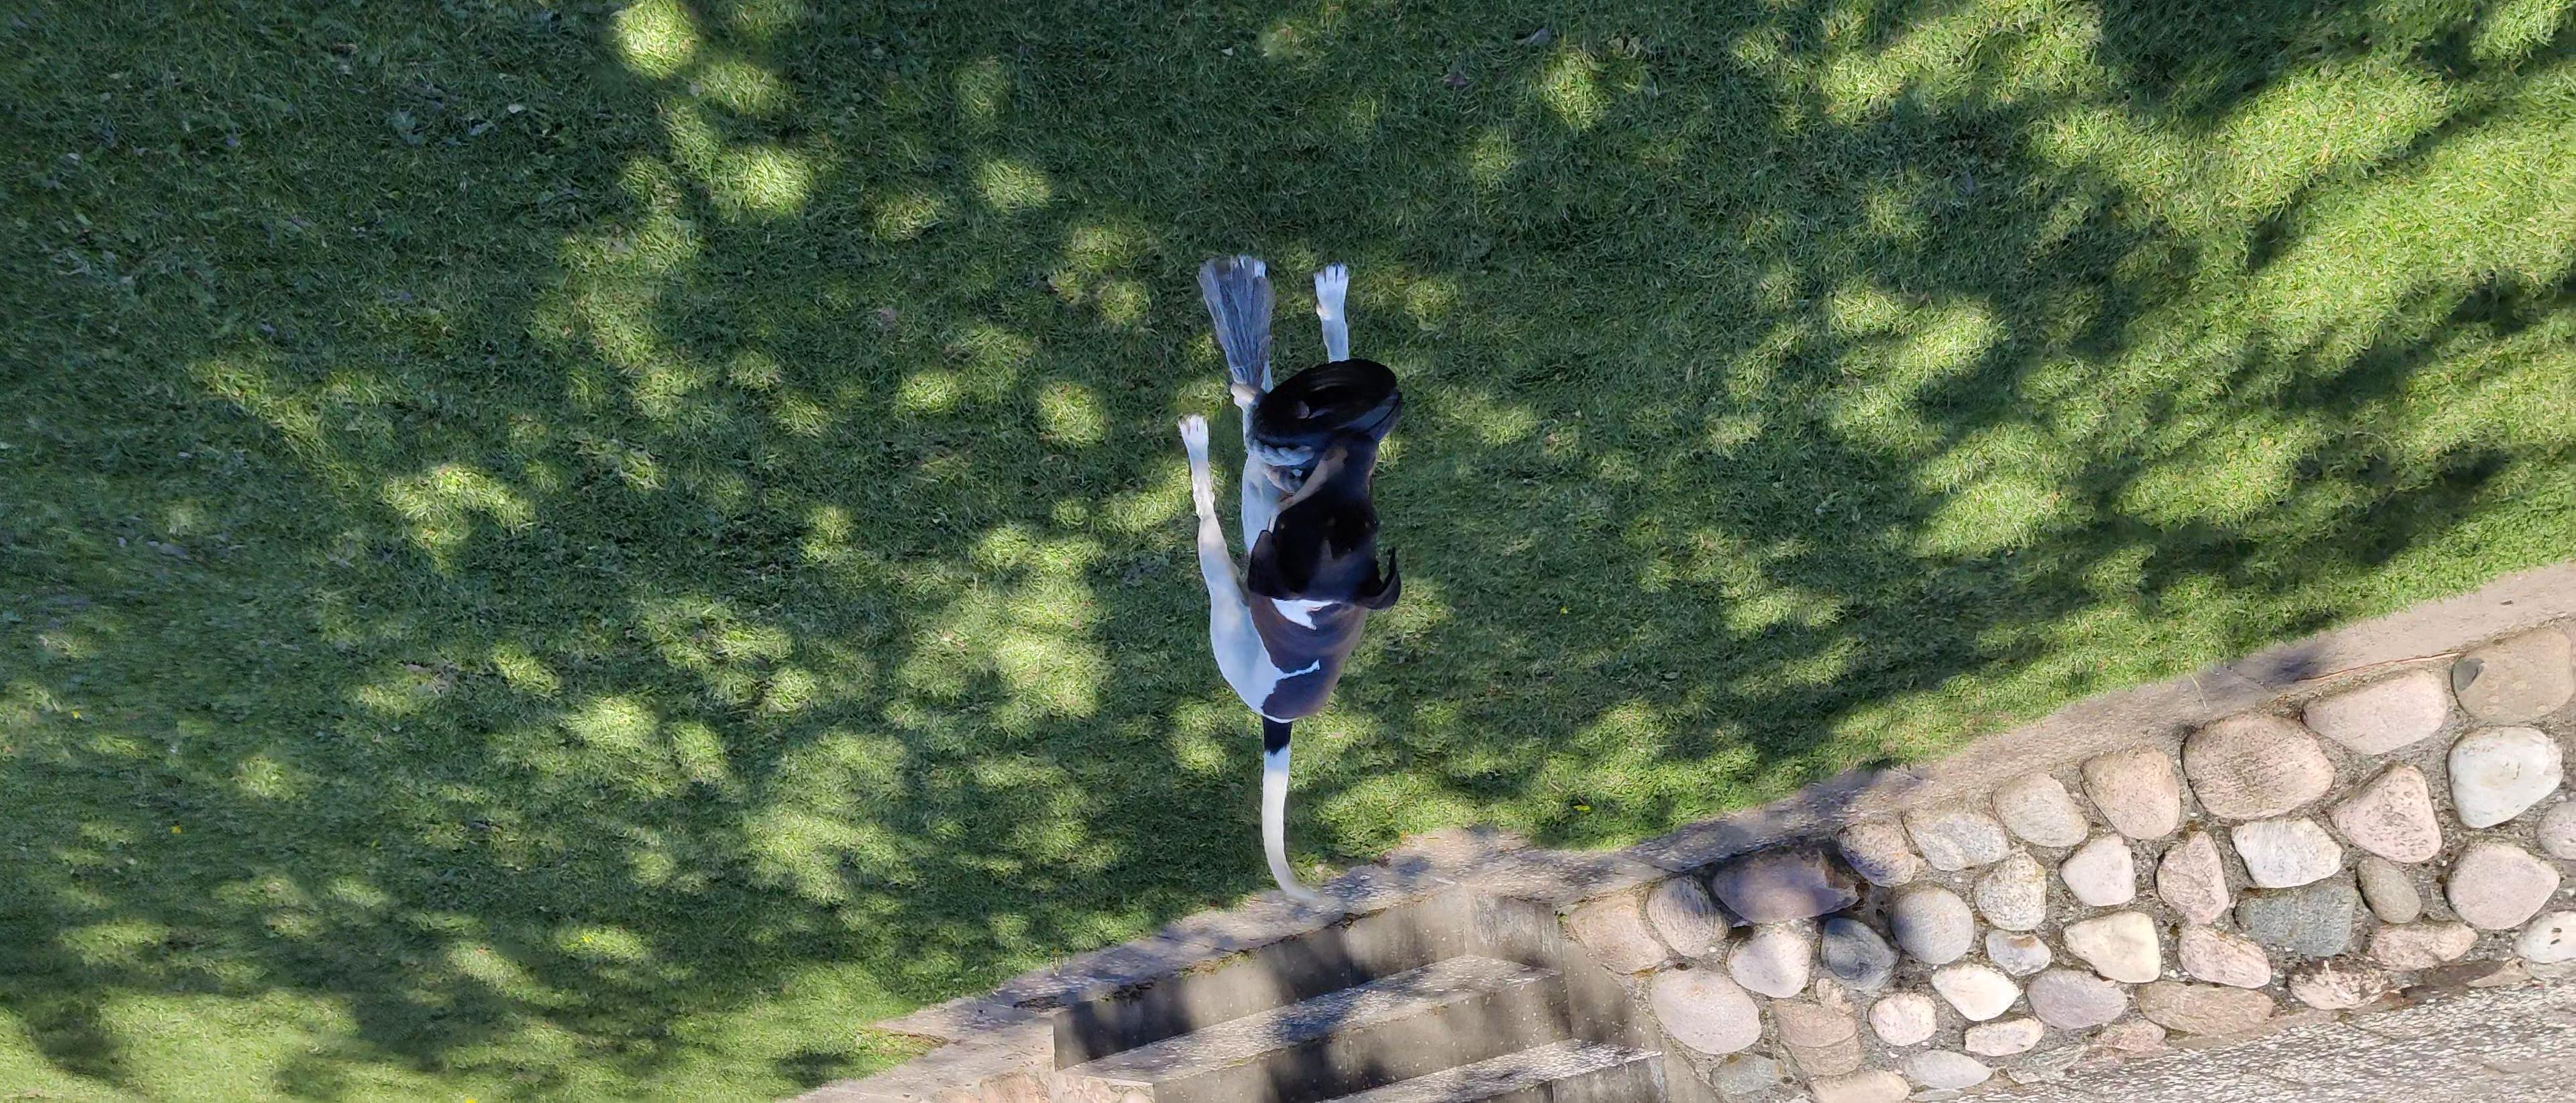Dog: (1147, 228, 1411, 917)
